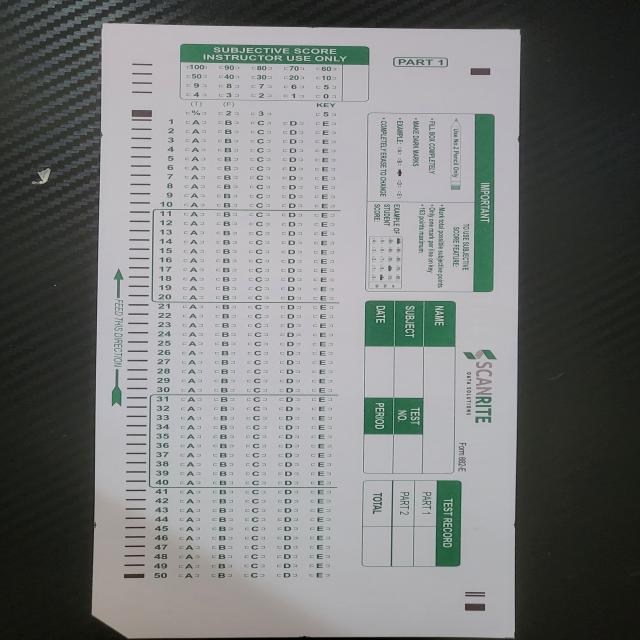scantron: (92, 23, 520, 638)
